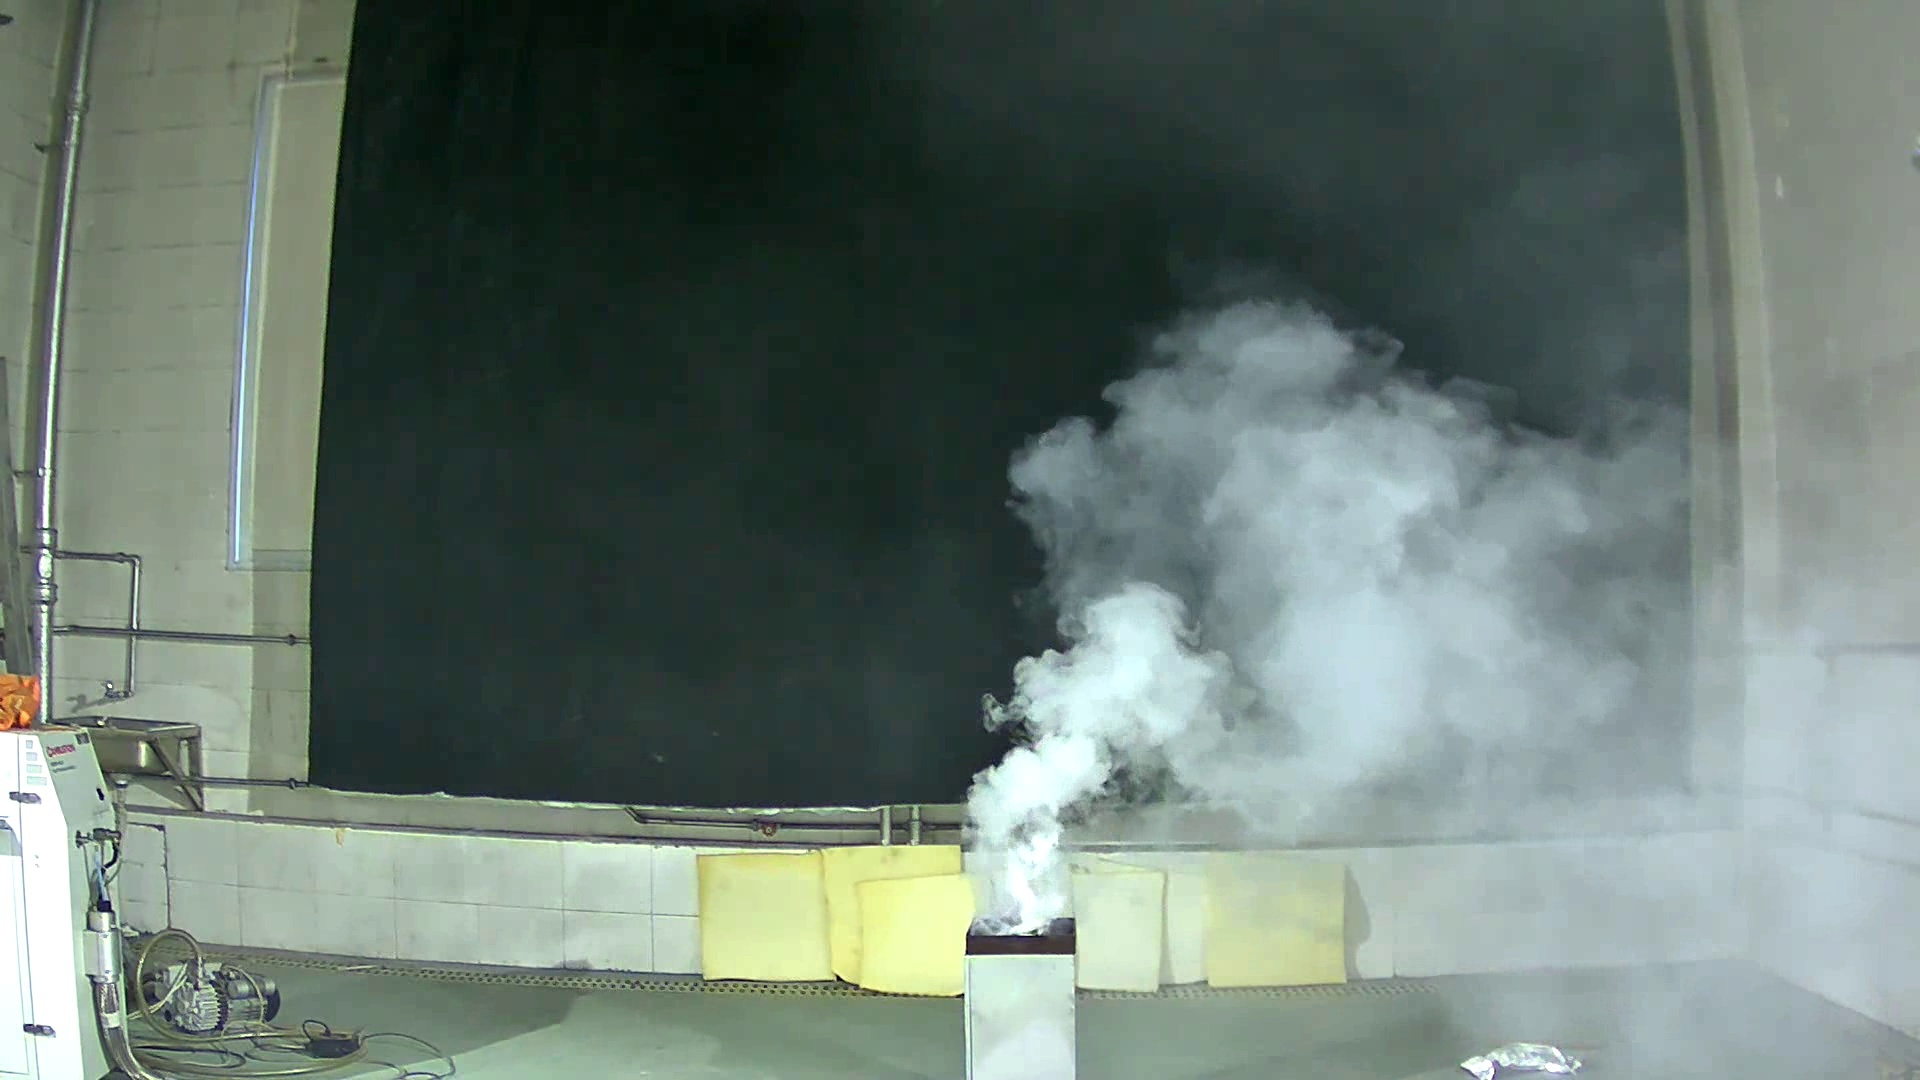smoke: (942, 268, 1575, 938)
